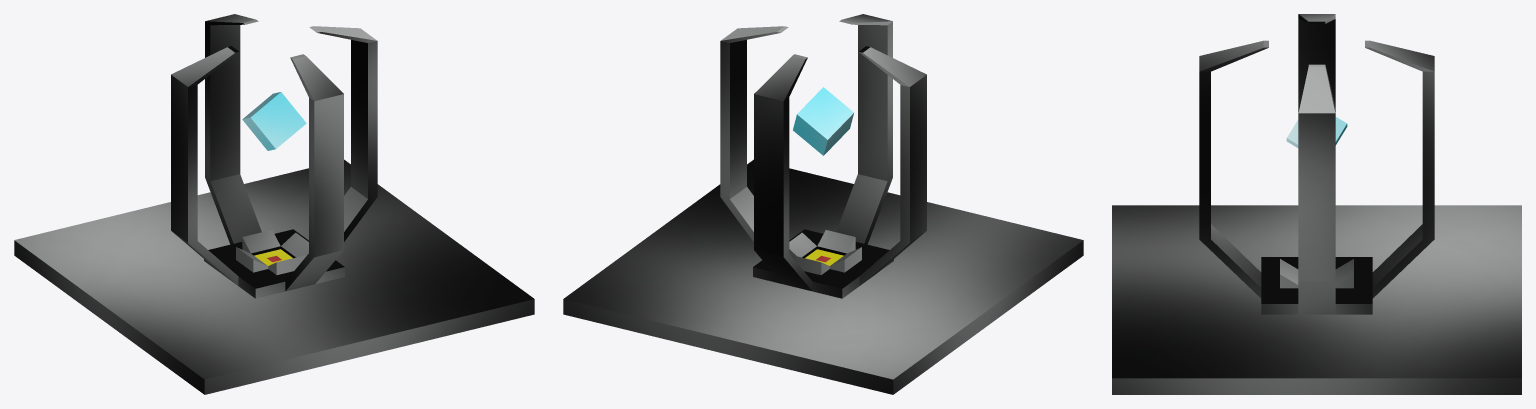
The model's file is CORE.fbx.
3 renders of one model, left to right at view 1: azimuth 30°, elevation 25°; view 2: azimuth 150°, elevation 25°; view 3: azimuth 270°, elevation 25°, orthographic. The views are drawn at different scales.
Parts seen in each view (by area): view 1: Cube; view 2: Cube; view 3: Cube.
Part boxes in pixels (left/top/right/bottom): Cube: left=14, top=14, right=534, bottom=394; Cube: left=563, top=14, right=1083, bottom=394; Cube: left=1112, top=14, right=1521, bottom=394.
Bounding box in the file's own units: 73.04 × 51.92 × 73.04.
Materials: 1 (1 with a texture image).
